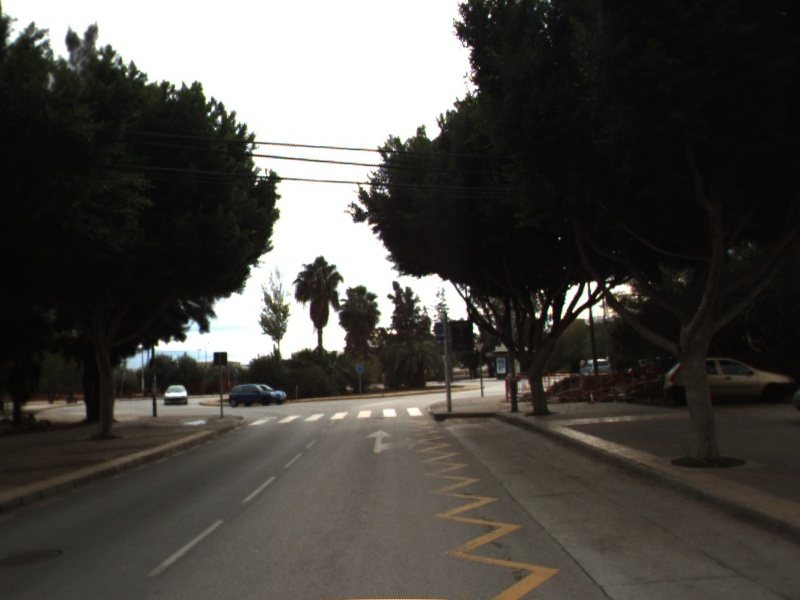STRAIGHT_RIGHT: (363, 427, 422, 455)
